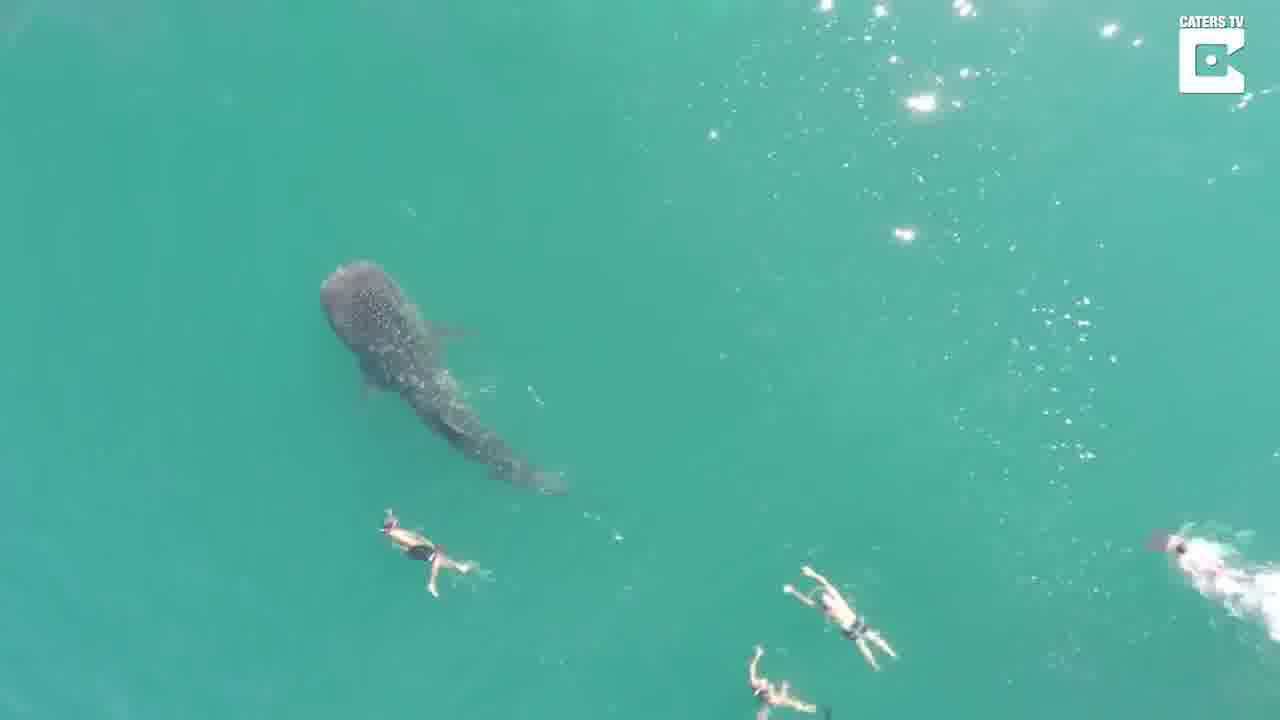human: (784, 571, 898, 662), (380, 506, 484, 599), (733, 646, 815, 714)
